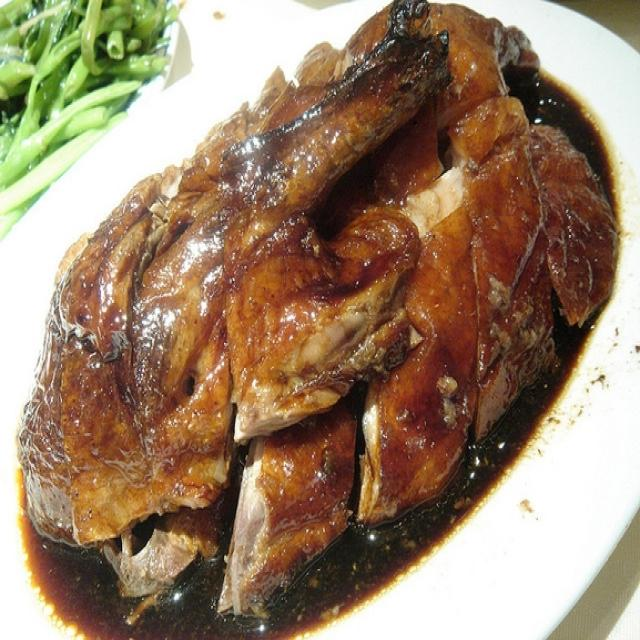烧串烤肉: (23, 8, 618, 631)
